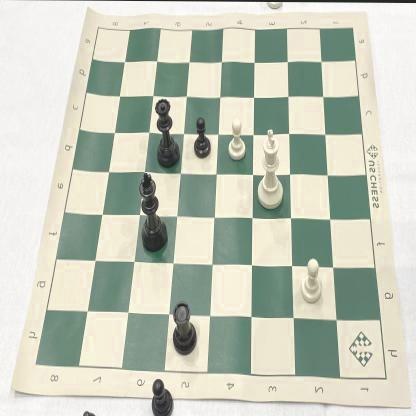black-king: (138, 170, 171, 255)
black-pawn: (191, 113, 215, 160)
black-queen: (152, 95, 182, 174)
black-rook: (170, 296, 198, 358)
white-king: (256, 126, 289, 213)
white-pawn: (296, 256, 326, 305), (226, 118, 249, 161)
